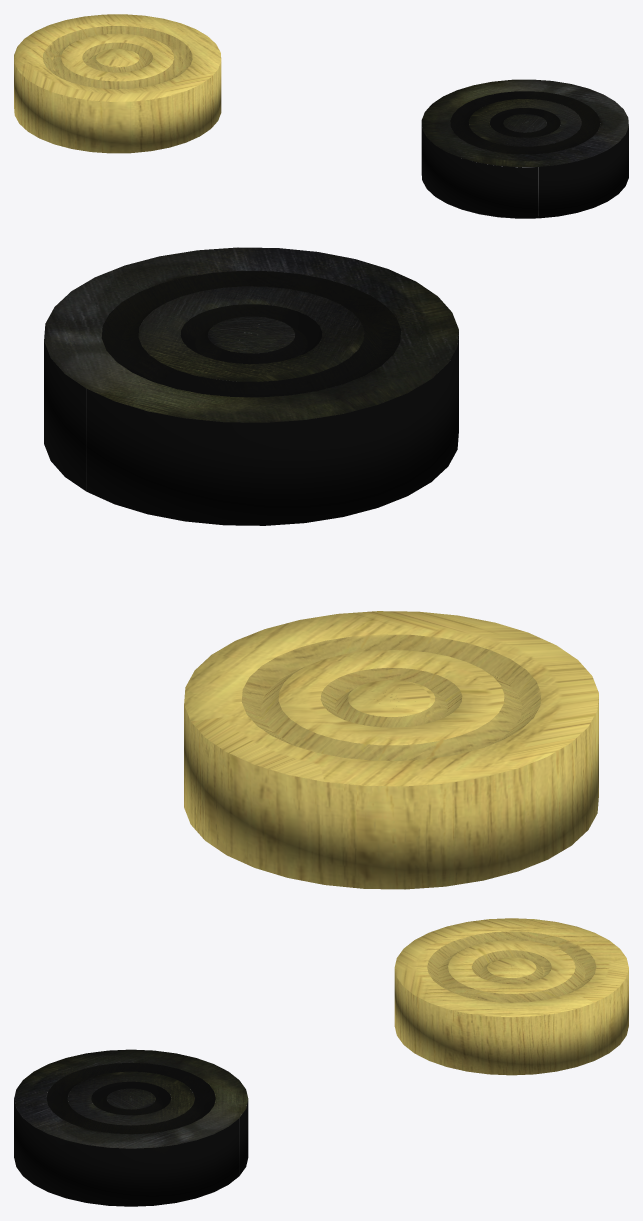
File: carromPiece.fbx
The picture shows the model from 3 angles, top to bottom: view 1: azimuth 30°, elevation 25°; view 2: azimuth 150°, elevation 25°; view 3: azimuth 270°, elevation 25°; orthographic projection. The views are drawn at different scales.
Parts seen in each view (by area): view 1: Circle.002, Circle.004; view 2: Circle.002, Circle.004; view 3: Circle.002, Circle.004.
Boxes of the visible parts, box(x1,y1,x2,y2) form: Circle.002: box(14, 14, 221, 153); Circle.004: box(421, 79, 628, 218); Circle.002: box(184, 611, 598, 889); Circle.004: box(44, 247, 458, 525); Circle.002: box(394, 918, 628, 1075); Circle.004: box(14, 1049, 248, 1206).
Bounding box in the file's own units: 7.38 × 0.8801 × 8.32.
